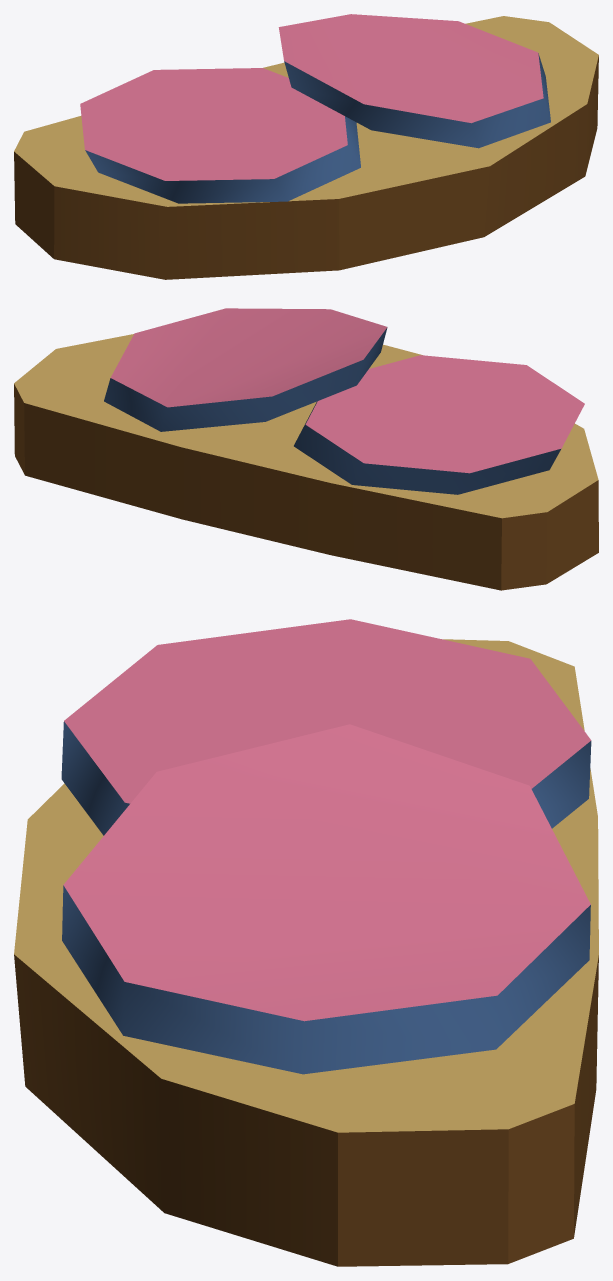
The model's file is Sandwich.FBX.
3 renders of one model, top to bottom at view 1: azimuth 30°, elevation 25°; view 2: azimuth 150°, elevation 25°; view 3: azimuth 270°, elevation 25°, orthographic. The views are drawn at different scales.
Parts seen in each view (by area): view 1: Sandwich_01; view 2: Sandwich_01; view 3: Sandwich_01.
Boxes of the visible parts, x1,y1,x2,y2 form: Sandwich_01: (14,14,598,279); Sandwich_01: (14,308,598,590); Sandwich_01: (14,619,598,1266).
Bounding box in the file's own units: 8.81 × 4.41 × 2.17.
